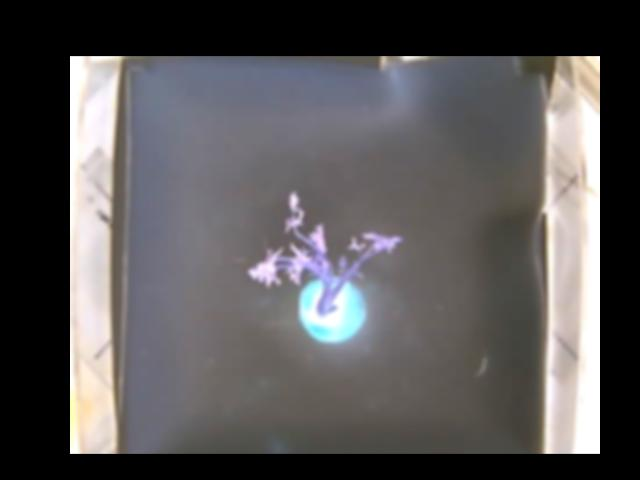Carrot: (248, 189, 405, 342)
